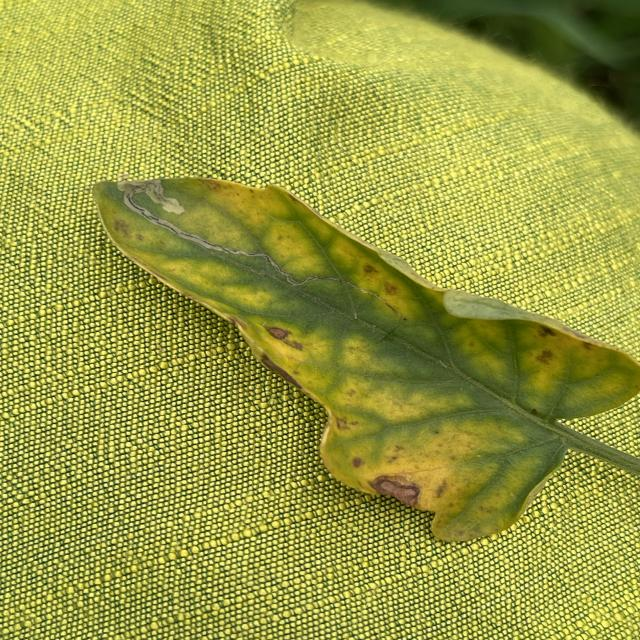tomato_early blight: (100, 168, 640, 550)
